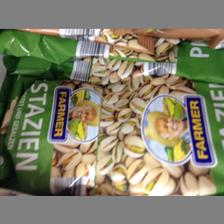Nuss: (0, 74, 224, 194)
